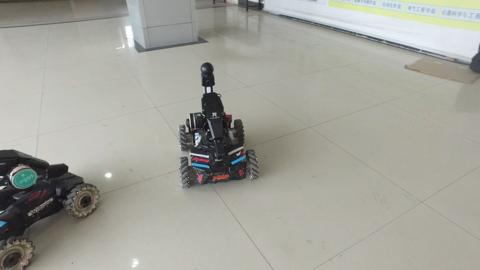chariot: (168, 59, 262, 188)
